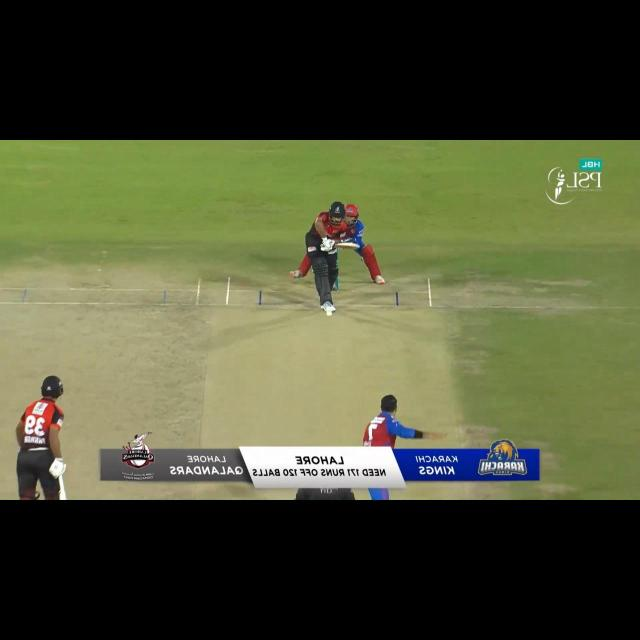bat: (335, 243, 360, 251)
toe: (353, 243, 360, 250)
